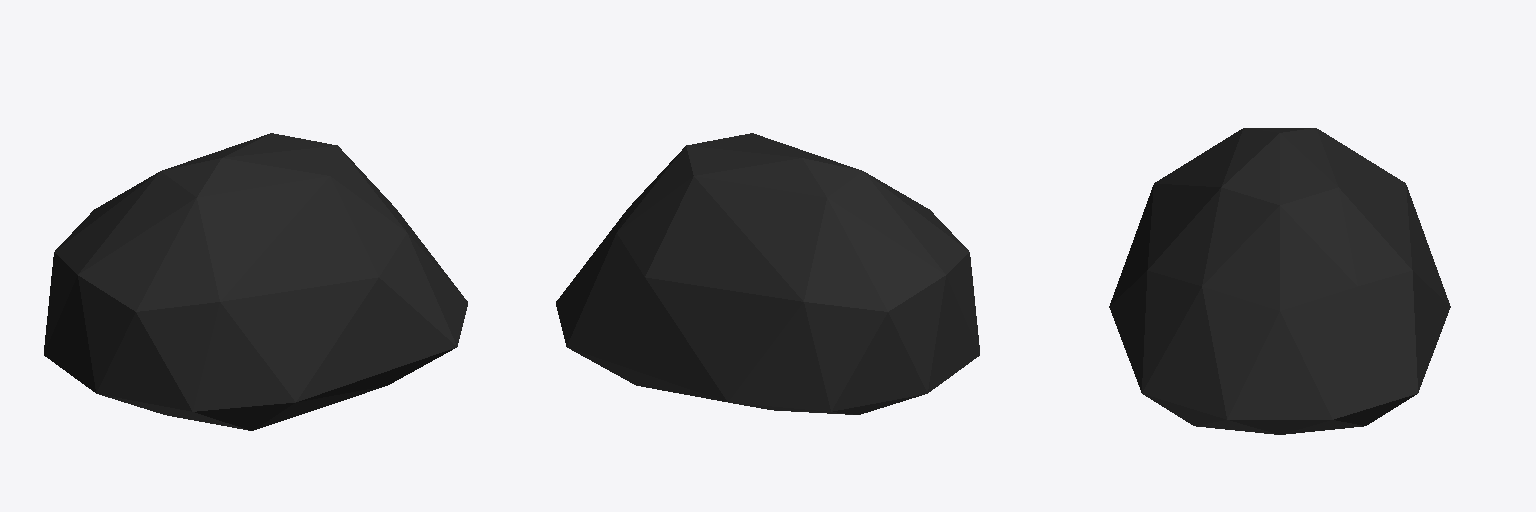
The model's file is stone.obj.
3 views of the same model, side by side, from view 1: azimuth 30°, elevation 25°; view 2: azimuth 150°, elevation 25°; view 3: azimuth 270°, elevation 25° (orthographic).
Parts seen in each view (by area): view 1: Icosphere; view 2: Icosphere; view 3: Icosphere.
Part boxes in pixels (left/top/right/bottom): Icosphere: left=44, top=133, right=467, bottom=430; Icosphere: left=556, top=133, right=979, bottom=414; Icosphere: left=1109, top=128, right=1450, bottom=434.
Size of the model in its own units: 1.46 by 0.8 by 1.16.